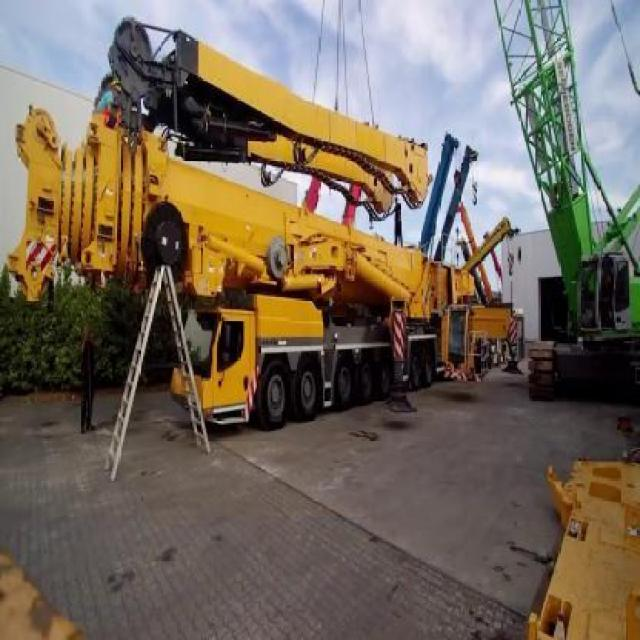Mobile Crane: (11, 16, 480, 433), (493, 0, 639, 398)
